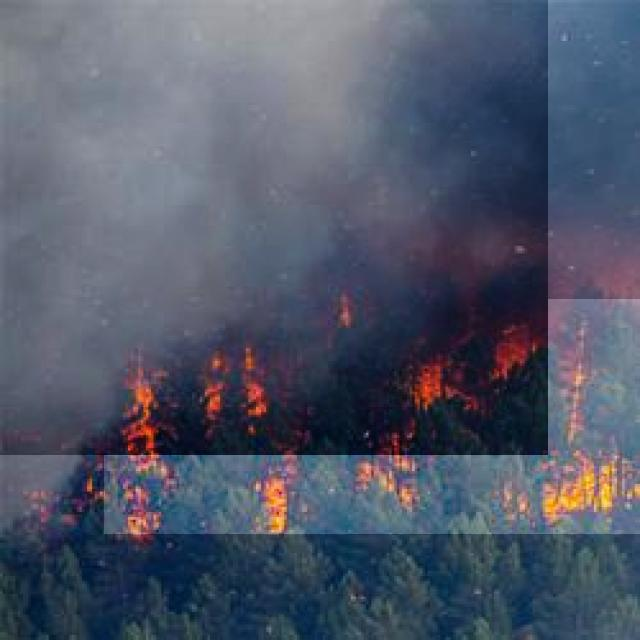Fire: (104, 299, 640, 534)
Smoke: (0, 0, 548, 455)
